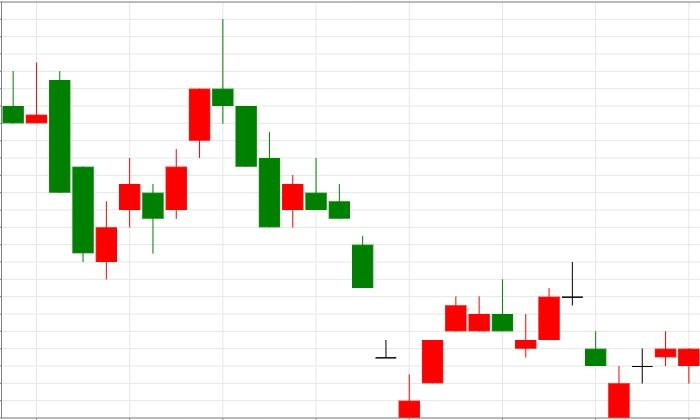inverse_hammer_rise: (212, 19, 421, 419)
